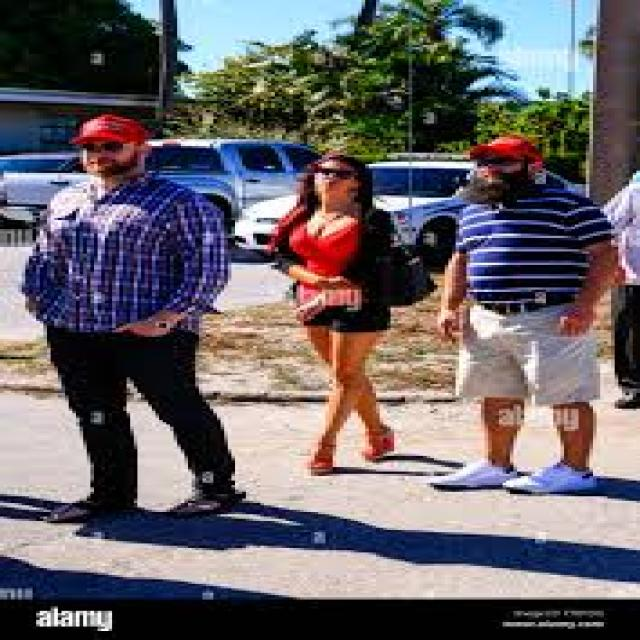cap: (58, 101, 159, 177), (456, 117, 560, 184)
